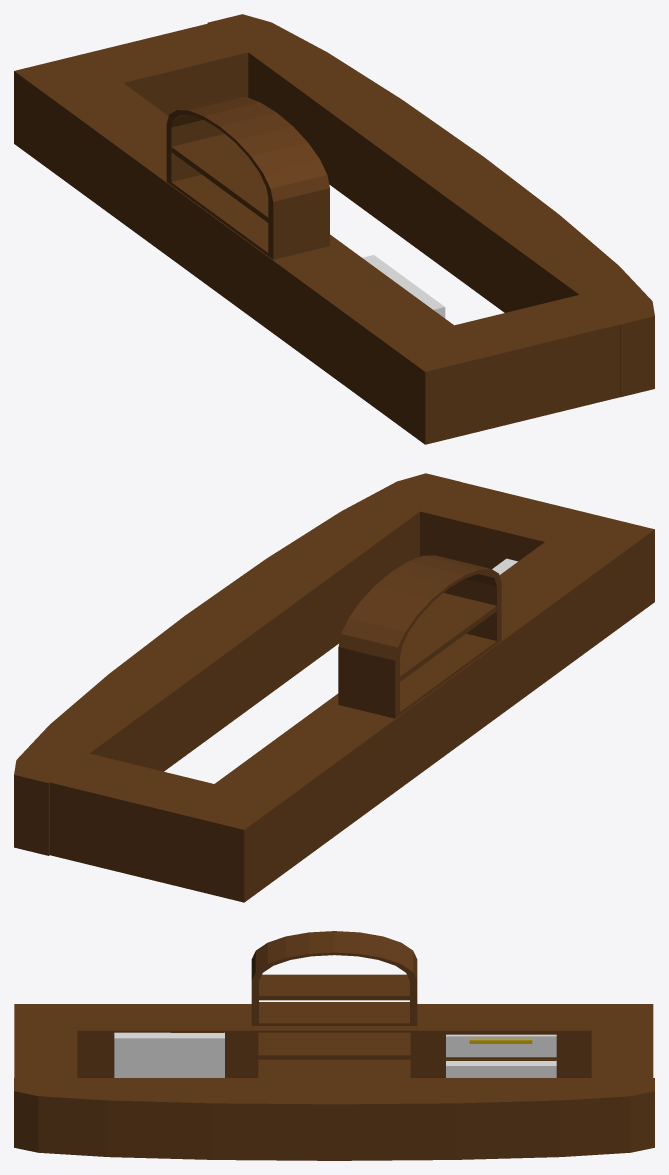
Rendered from VRBar.fbx.
The picture shows the model from 3 angles, top to bottom: view 1: azimuth 30°, elevation 25°; view 2: azimuth 150°, elevation 25°; view 3: azimuth 270°, elevation 25°; orthographic projection. The views are drawn at different scales.
Visible parts, largest first — view 1: Bar, front of bar, barsides, Rack, Cube.006, ZCabinetArea; view 2: Bar, front of bar, barsides, Rack, Cube.006; view 3: front of bar, Bar, Rack, barsides, ZCabinetArea, Cube.005, Cube.006, zDrawer1Area, zDrawer2Area, Cube.002.
Part boxes in pixels (<box>): Bar: <box>14,54,494,444</box>; front of bar: <box>207,14,654,397</box>; barsides: <box>84,23,620,427</box>; Rack: <box>166,96,329,259</box>; Cube.006: <box>171,134,268,222</box>; ZCabinetArea: <box>362,255,445,318</box>; Bar: <box>174,512,654,902</box>; front of bar: <box>14,473,459,855</box>; barsides: <box>49,481,584,885</box>; Rack: <box>338,555,501,718</box>; Cube.006: <box>400,593,496,681</box>; front of bar: <box>14,1078,654,1160</box>; Bar: <box>14,1004,653,1077</box>; Rack: <box>251,931,417,1025</box>; barsides: <box>14,1030,653,1078</box>; ZCabinetArea: <box>114,1032,224,1077</box>; Cube.005: <box>258,1032,410,1059</box>; Cube.006: <box>259,974,409,1000</box>; zDrawer1Area: <box>446,1034,556,1057</box>; zDrawer2Area: <box>446,1060,556,1077</box>; Cube.002: <box>469,1038,532,1043</box>.
Bounding box in the file's own units: 760 × 459 × 2052.
